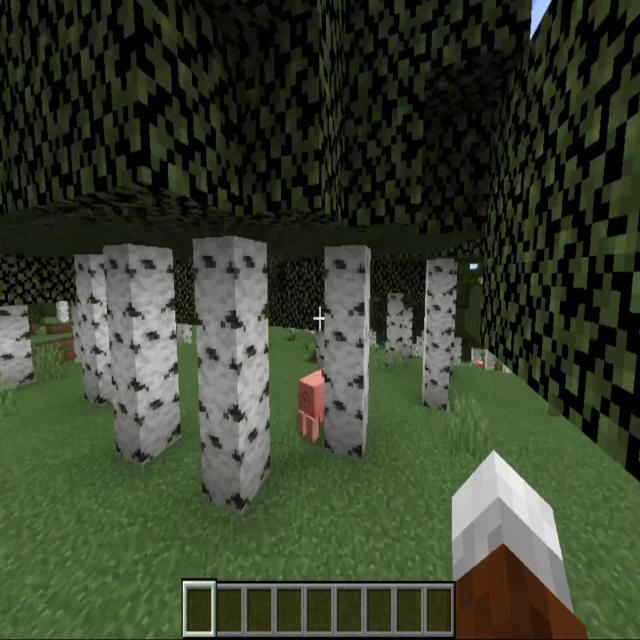Pig: (294, 354, 336, 444)
